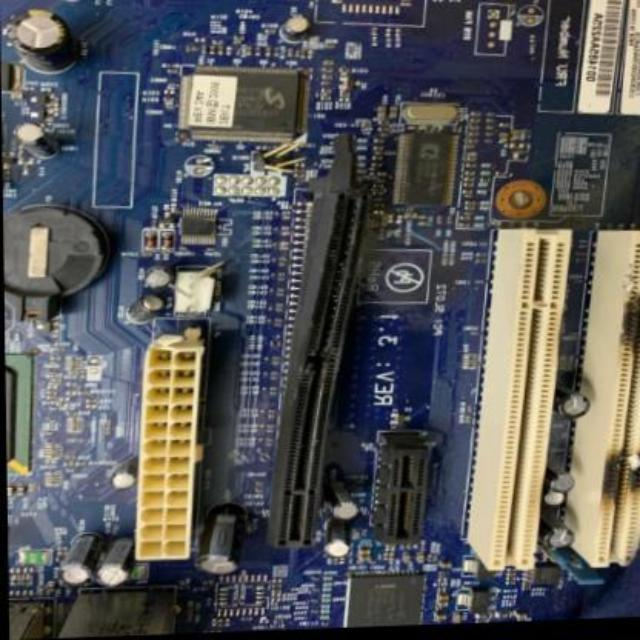PCB: (2, 0, 638, 636)
